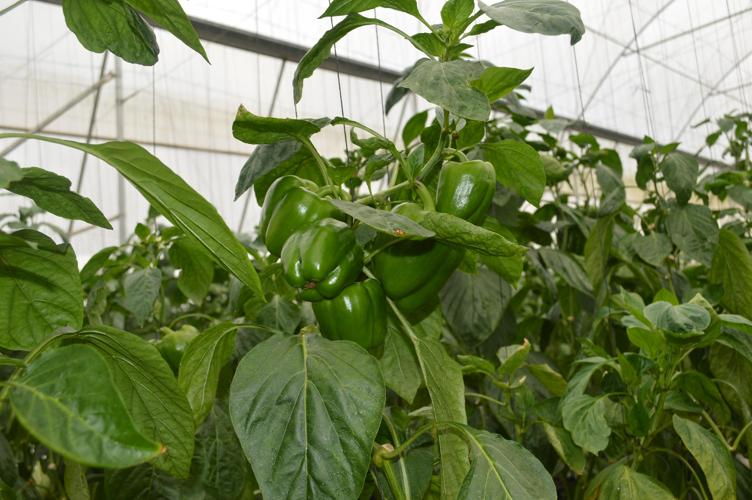BellPepper: (372, 220, 465, 317), (276, 213, 363, 308), (247, 177, 335, 248), (311, 286, 396, 358), (423, 155, 504, 227)
